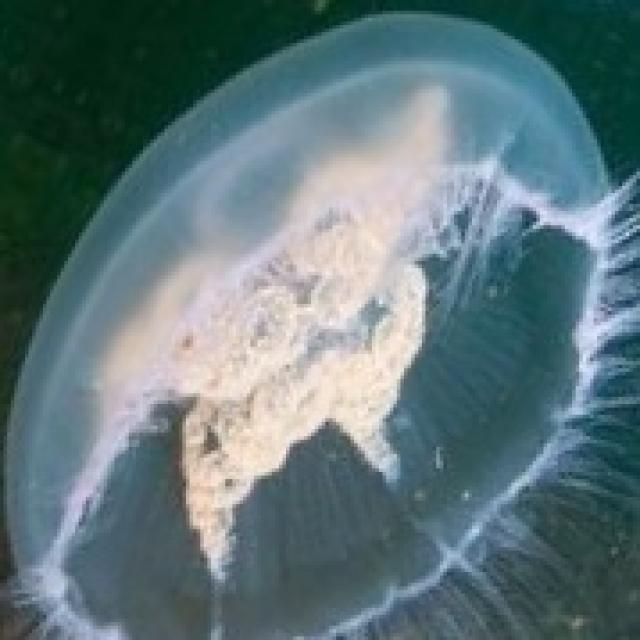Box-jellyfish: (0, 7, 636, 636)
